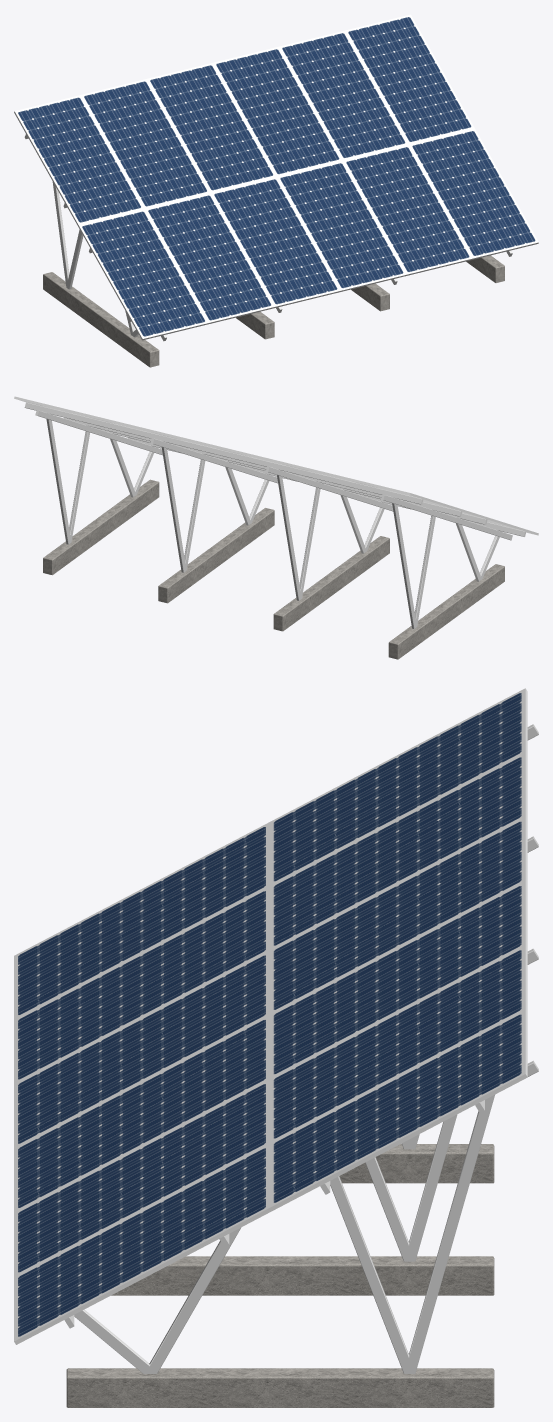
Rendered from solar_panel.glb.
3 views of the same model, one above another, from view 1: azimuth 30°, elevation 25°; view 2: azimuth 150°, elevation 25°; view 3: azimuth 270°, elevation 25° (orthographic). The views are drawn at different scales.
Parts seen in each view (by area): view 1: Panels, Bases, B; view 2: Bases, B (×6), A (×6), D (×2), Panels, C (×2); view 3: Panels, Bases, B (×2), A.
Boxes of the visible parts, box(x1,y1,x2,y2) form: Panels: box(14, 14, 538, 340); Bases: box(43, 255, 504, 367); B: box(52, 182, 83, 289); Bases: box(43, 479, 504, 659); B (×6): box(46, 419, 487, 628); A (×6): box(110, 437, 526, 581); D (×2): box(24, 402, 423, 504); Panels: box(14, 396, 538, 535); C (×2): box(64, 417, 461, 516); Panels: box(14, 688, 527, 1344); Bases: box(66, 1144, 494, 1407); B (×2): box(330, 1095, 494, 1373); A: box(74, 1227, 241, 1373).
Size of the model in its own units: 8.15 by 3.48 by 4.69.
4 materials, 2 textured.
